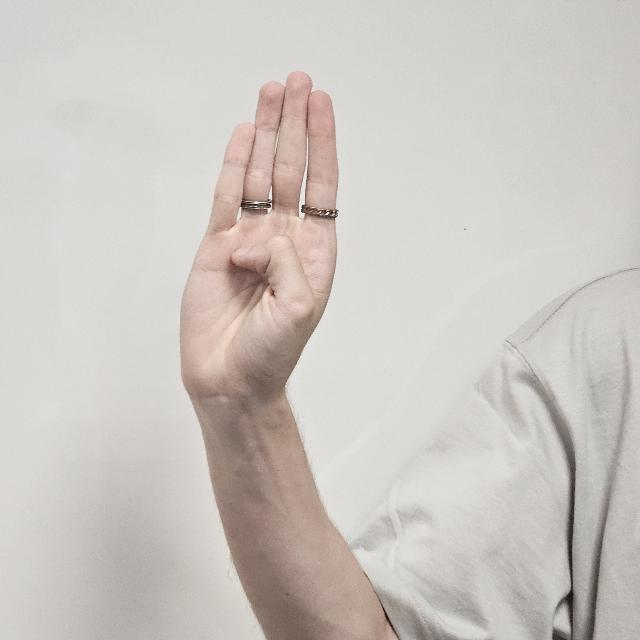Baixo: (180, 68, 336, 466)
